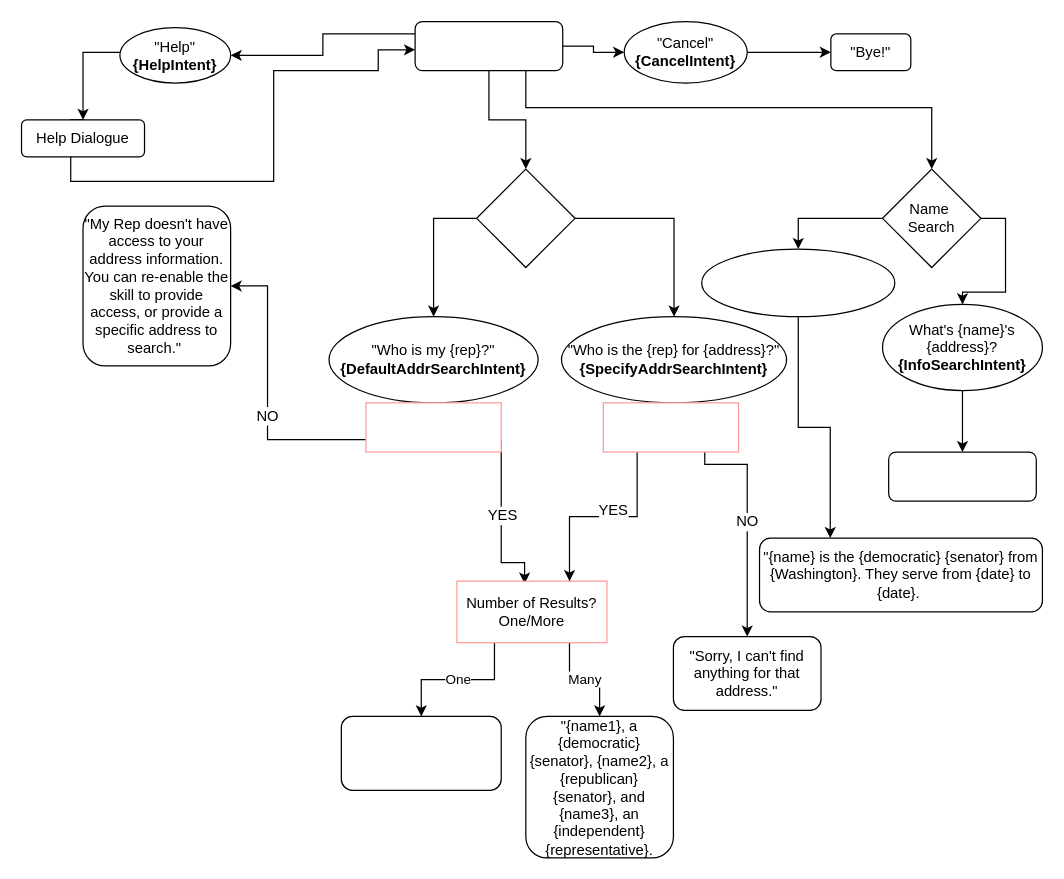
Image size: 1064x879. Some labels were removed from this diagram. The box of each missing label's shape, as (x1, y1, x2, y2) in pixels:
"Tell me about {name}." {NameSearchIntent}: (700, 248, 895, 317)
"Their {address} is {actual address}.": (887, 451, 1036, 501)
"{name}, a {democrat}. They serve from {date} to {date}.": (340, 715, 501, 790)
Has address? Y/N: (365, 402, 501, 452)
Launch Intent Dialogue: (414, 20, 563, 71)
Location Search: (475, 168, 575, 268)
Valid address? Y/N: (602, 402, 739, 452)
